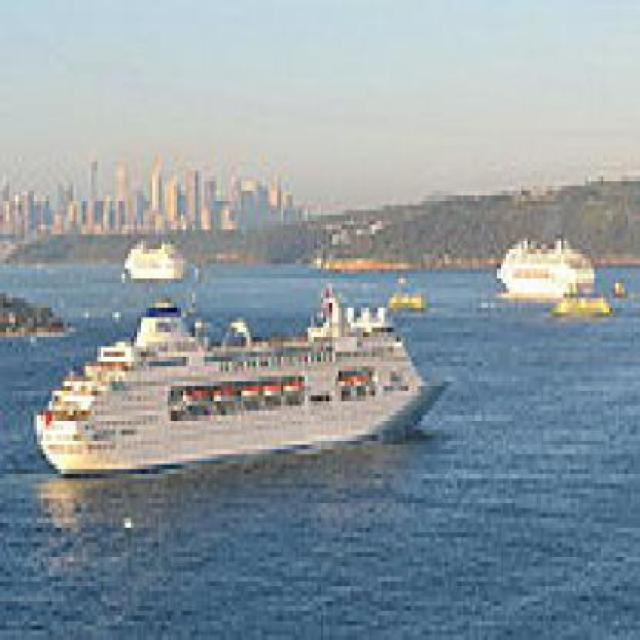cruise: (25, 285, 456, 485)
